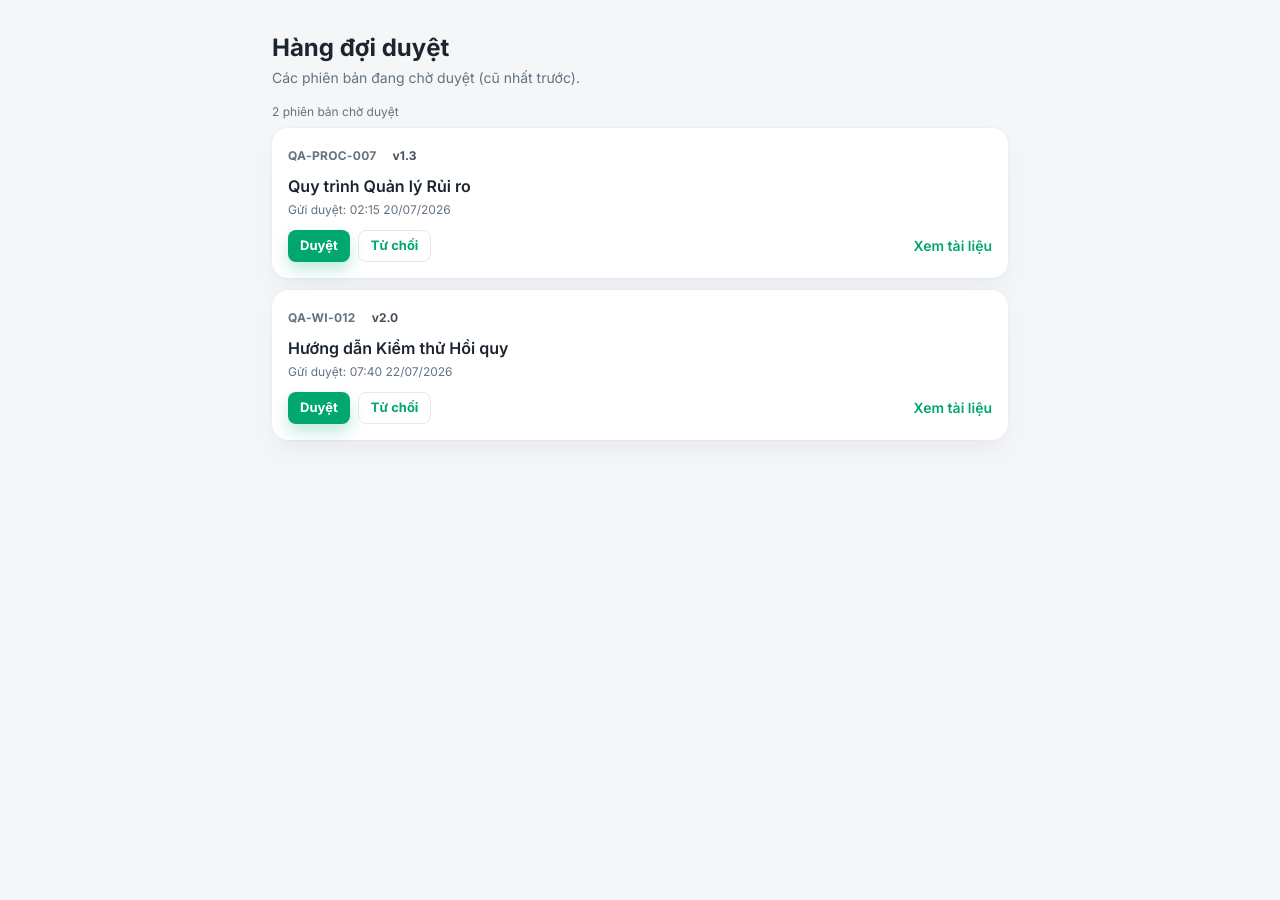
Test: ReviewQueuePage (S9) › approve gọi API decision=approve và gỡ item khỏi hàng đợi
The image size is (1280, 900).
Expected: the heading "Quy trình Quản lý Rủi ro" is shown, [288, 176, 471, 196]
Step 1. Click the button "Duyệt" below "02:15 20/07/2026" → [319, 246], box [288, 230, 350, 262]
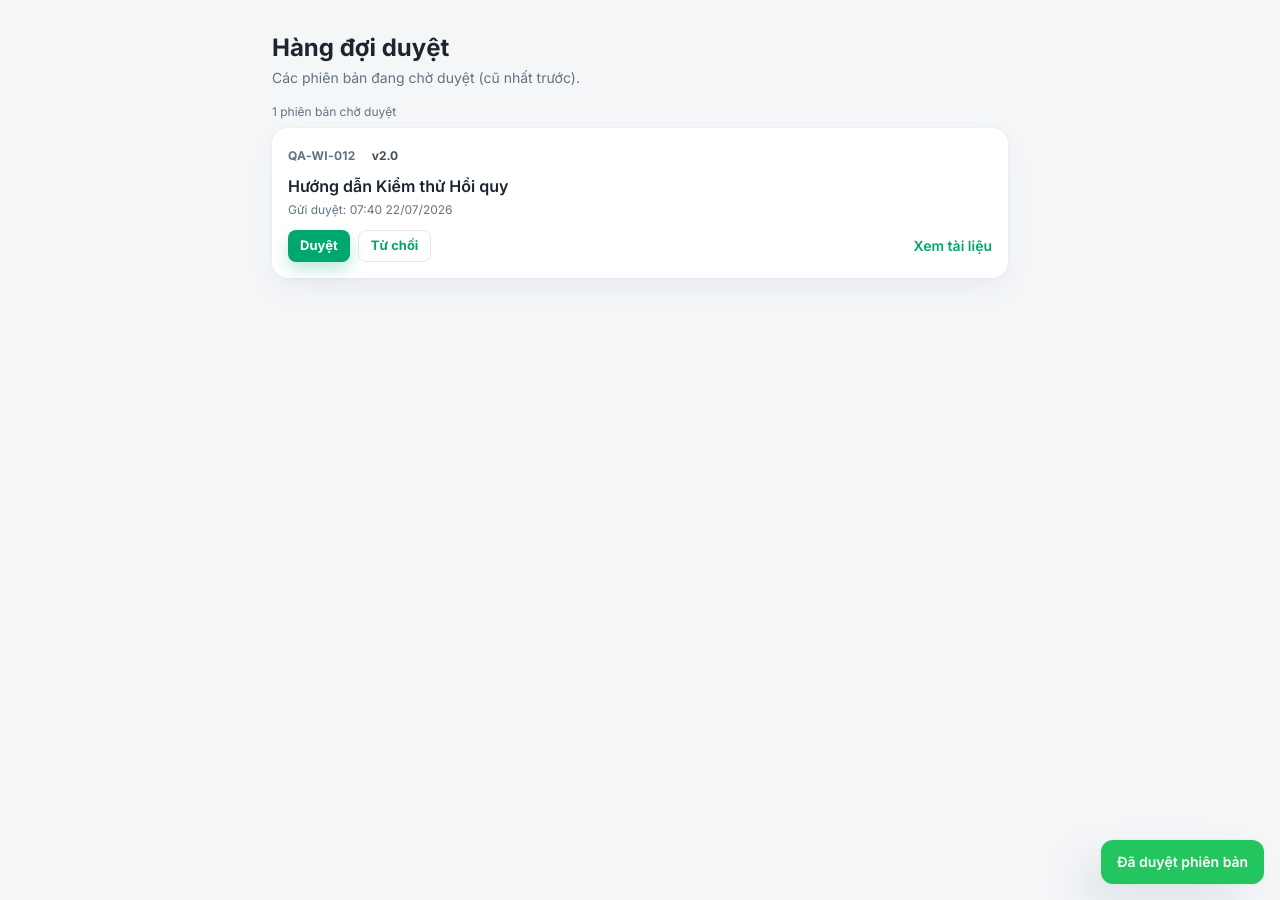
Expected: the heading "Quy trình Quản lý Rủi ro" is gone
